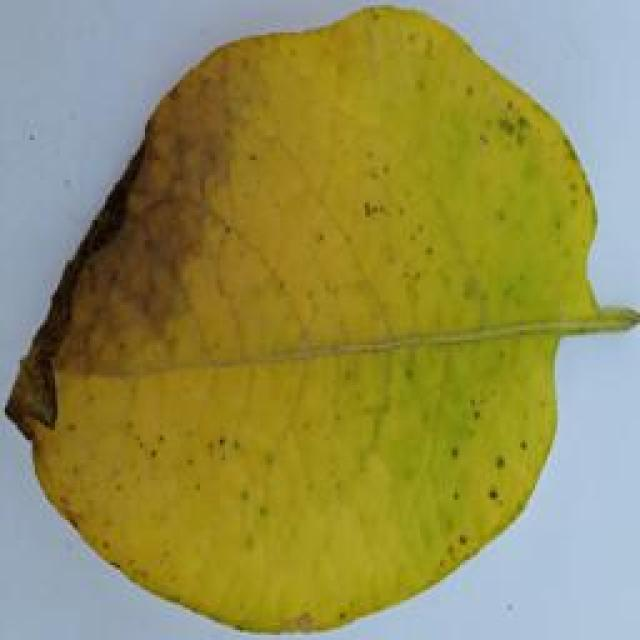Potato_Late_Blight: (9, 5, 628, 631)
